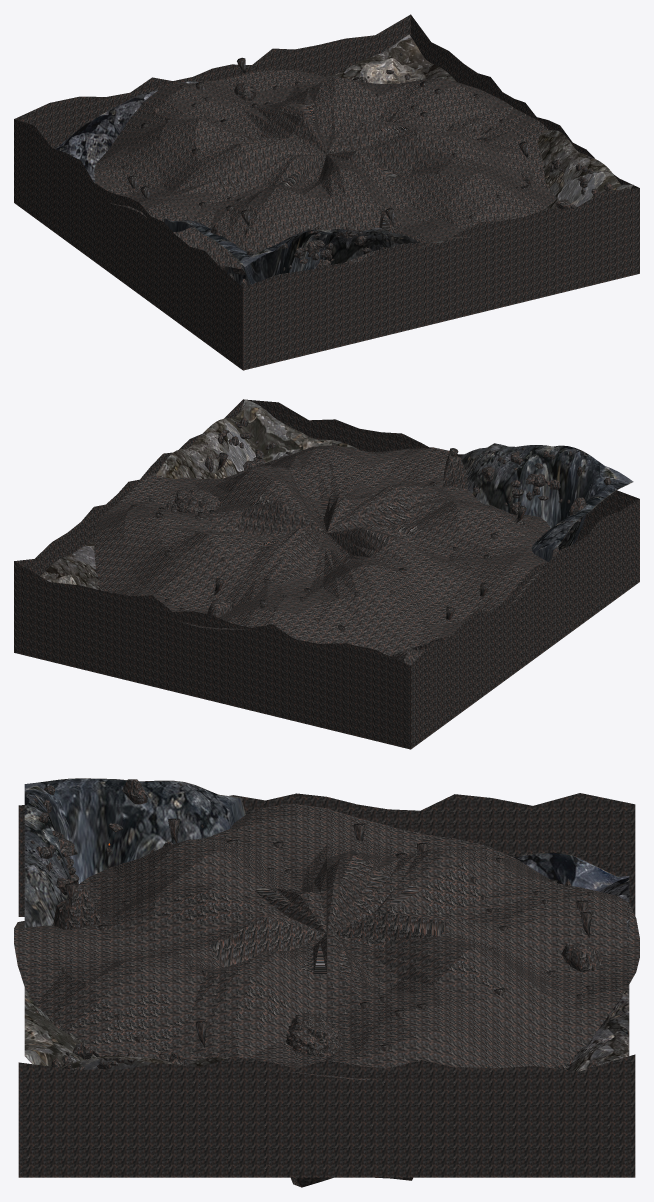
File: world010.fbx
The picture shows the model from 3 angles, top to bottom: view 1: azimuth 30°, elevation 25°; view 2: azimuth 150°, elevation 25°; view 3: azimuth 270°, elevation 25°; orthographic projection. The views are drawn at different scales.
Visible parts, largest first — view 1: Decor_CavernPerimeter, Solid_Ceiling, Terrain_5_5, Terrain_0_0, Terrain_5_1, Terrain_1_0, Terrain_1_5, Terrain_5_0, Terrain_0_5, Solid_Rubble_1_0, Terrain_2_0, Decor_CeilingStalactite_Gallery_0; view 2: Solid_Ceiling, Decor_CavernPerimeter, Terrain_1_0, Terrain_0_0, Terrain_5_0, Terrain_5_1, Terrain_2_0, Solid_Rubble_1_0, Terrain_5_4, Decor_CeilingStalactite_Gallery_0, Terrain_0_1, Terrain_5_5 (+2 smaller); view 3: Solid_Ceiling, Decor_CavernPerimeter, Terrain_0_0, Terrain_0_1, Terrain_0_5, Terrain_1_0, Terrain_2_0, Terrain_4_5, Decor_CeilingStalactite_Gallery_0, Solid_CaveWall.015, Terrain_5_0, Terrain_4_0 (+2 smaller).
Boxes of the visible parts, <box> form: Decor_CavernPerimeter: <box>14,14,639,370</box>; Solid_Ceiling: <box>94,70,557,268</box>; Terrain_5_5: <box>343,34,446,83</box>; Terrain_0_0: <box>207,231,309,284</box>; Terrain_5_1: <box>540,131,595,209</box>; Terrain_1_0: <box>295,229,375,271</box>; Terrain_1_5: <box>86,91,152,155</box>; Terrain_5_0: <box>555,159,633,208</box>; Terrain_0_5: <box>55,124,102,182</box>; Solid_Rubble_1_0: <box>294,227,367,268</box>; Terrain_2_0: <box>356,227,419,257</box>; Decor_CeilingStalactite_Gallery_0: <box>446,117,493,142</box>; Solid_Ceiling: <box>94,445,558,655</box>; Decor_CavernPerimeter: <box>14,399,639,749</box>; Terrain_1_0: <box>481,445,567,523</box>; Terrain_0_0: <box>548,446,633,550</box>; Terrain_5_0: <box>207,399,310,470</box>; Terrain_5_1: <box>169,429,242,479</box>; Terrain_2_0: <box>459,443,501,502</box>; Solid_Rubble_1_0: <box>481,451,560,515</box>; Terrain_5_4: <box>58,541,102,590</box>; Decor_CeilingStalactite_Gallery_0: <box>171,488,223,513</box>; Terrain_0_1: <box>532,504,595,553</box>; Terrain_5_5: <box>40,560,87,586</box>; Solid_Ceiling: <box>14,803,639,1079</box>; Decor_CavernPerimeter: <box>18,793,635,1177</box>; Terrain_0_0: <box>24,778,128,883</box>; Terrain_0_1: <box>127,780,230,861</box>; Terrain_0_5: <box>527,852,629,891</box>; Terrain_1_0: <box>24,801,73,883</box>; Terrain_2_0: <box>24,864,67,927</box>; Terrain_4_5: <box>567,1013,629,1071</box>; Decor_CeilingStalactite_Gallery_0: <box>285,1012,341,1056</box>; Solid_CaveWall.015: <box>53,888,101,930</box>; Terrain_5_0: <box>24,1042,129,1069</box>; Terrain_4_0: <box>24,1008,96,1060</box>.
Size of the model in its own units: 311 by 102 by 311.
12 materials, 12 textured.
